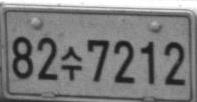1: (139, 40, 160, 84)
2: (112, 39, 135, 84), (36, 36, 58, 80), (164, 40, 185, 85)
7: (86, 39, 109, 83)
8: (11, 35, 33, 79)
수: (60, 45, 82, 81)
